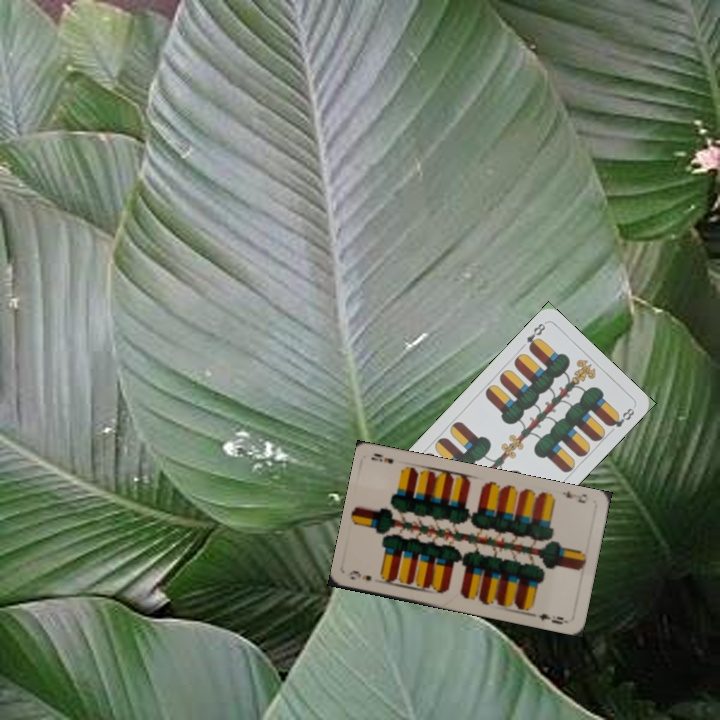E8: (522, 319, 548, 353)
E9: (558, 486, 589, 506), (346, 566, 374, 583)
